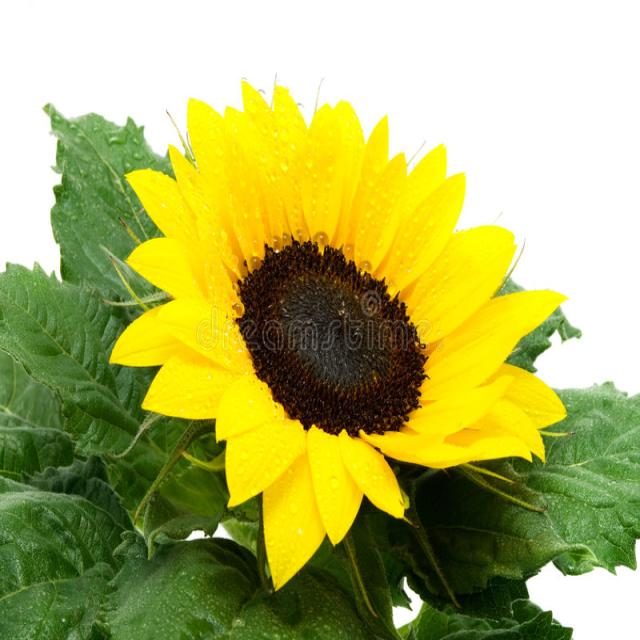sunflower: (126, 44, 576, 629)
